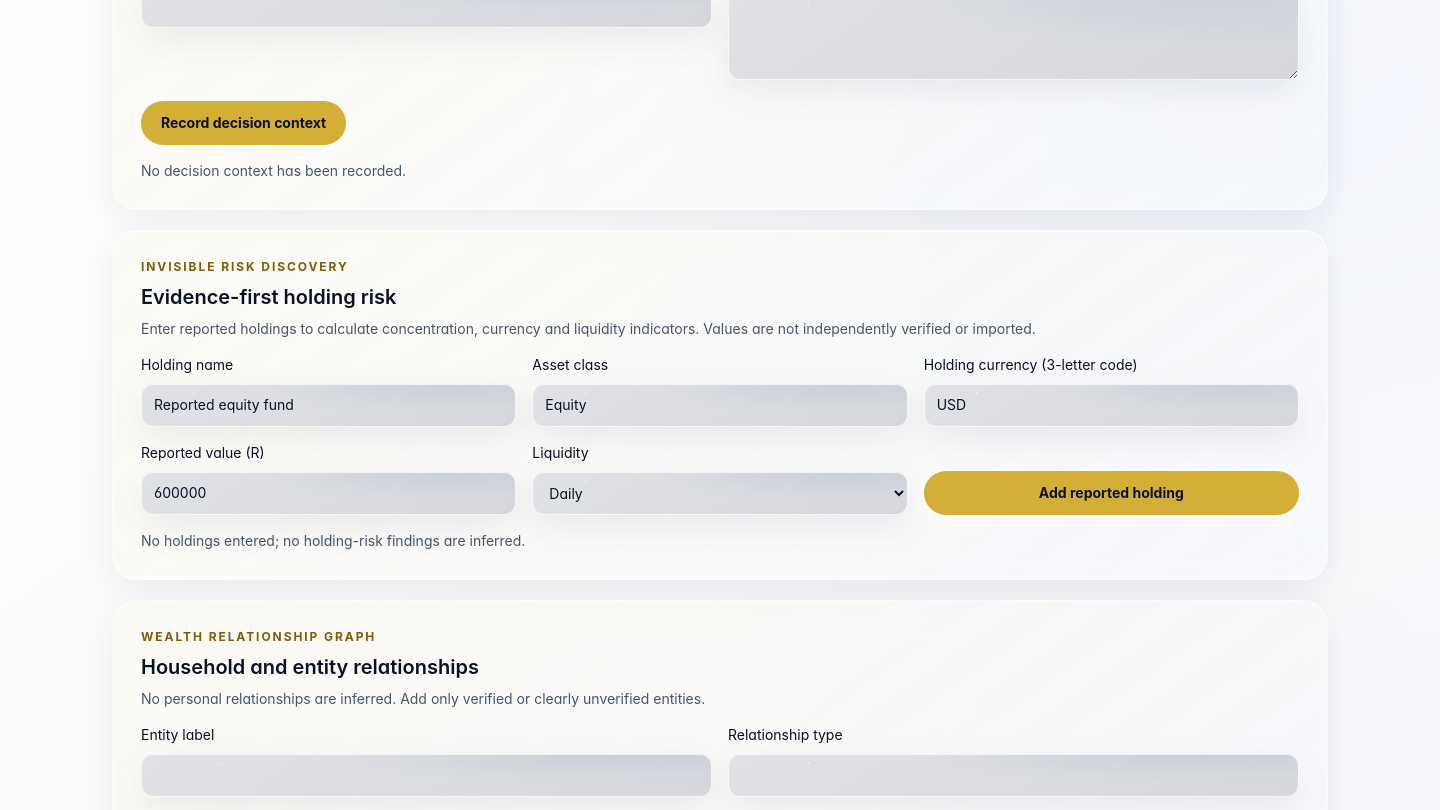
Test: WealthPlanningLab persistence feedback › analyses reported holdings and stores relationship and knowledge records only after user entry
The width and height of the screenshot is (1440, 810).
Earlier steps of the test are not shown.
(page scrolled)
Submit the form named "Add reported holding", box [141,355,1299,515]
(page scrolled)
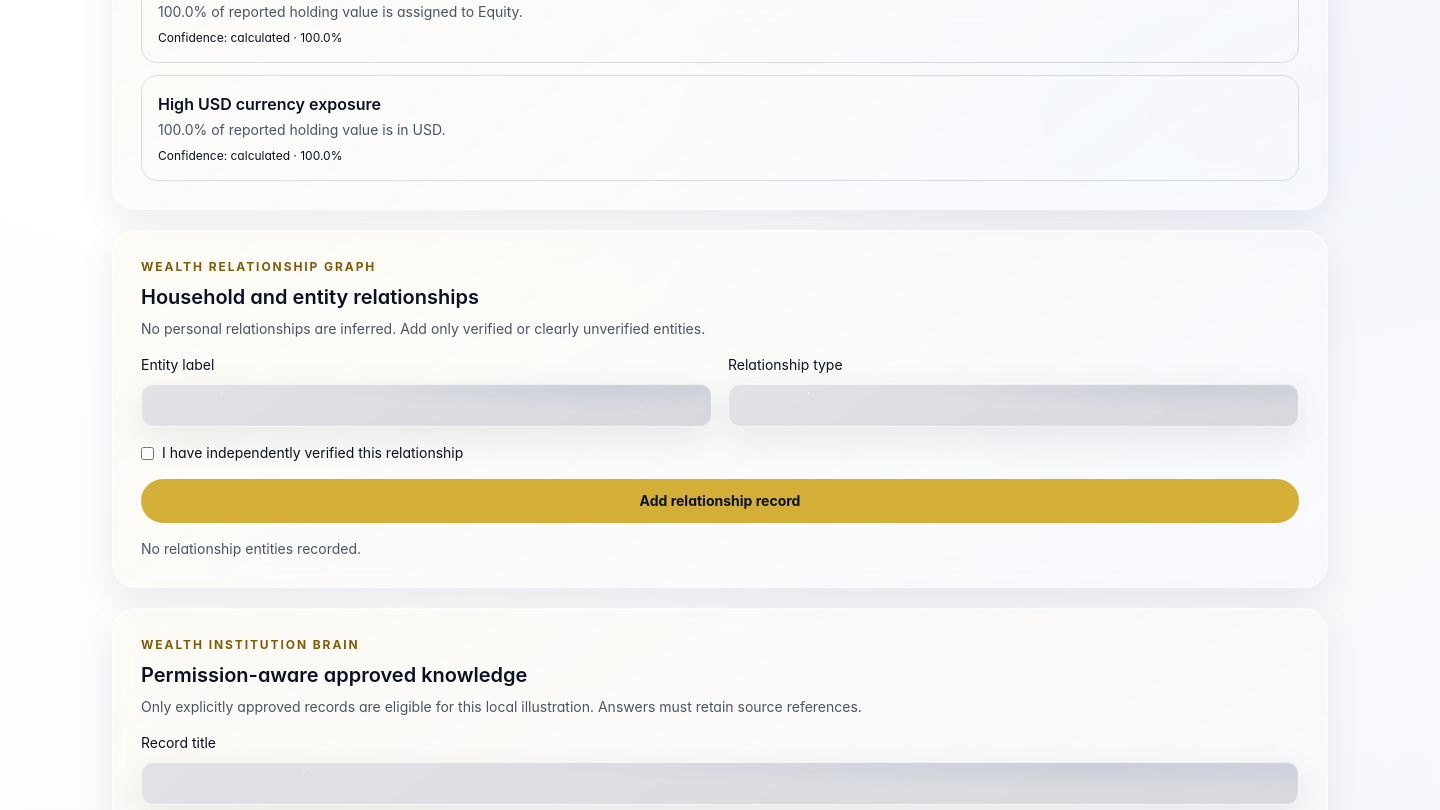
Type "Client beneficiary" into the field labelled "Entity label" at (426, 405), box [141,383,712,427]
Type "Beneficiary" into the field labelled "Relationship type" at (1014, 405), box [728,383,1299,427]
Click the button "Add relationship record" at (720, 501), box [141,479,1299,523]
(page scrolled)
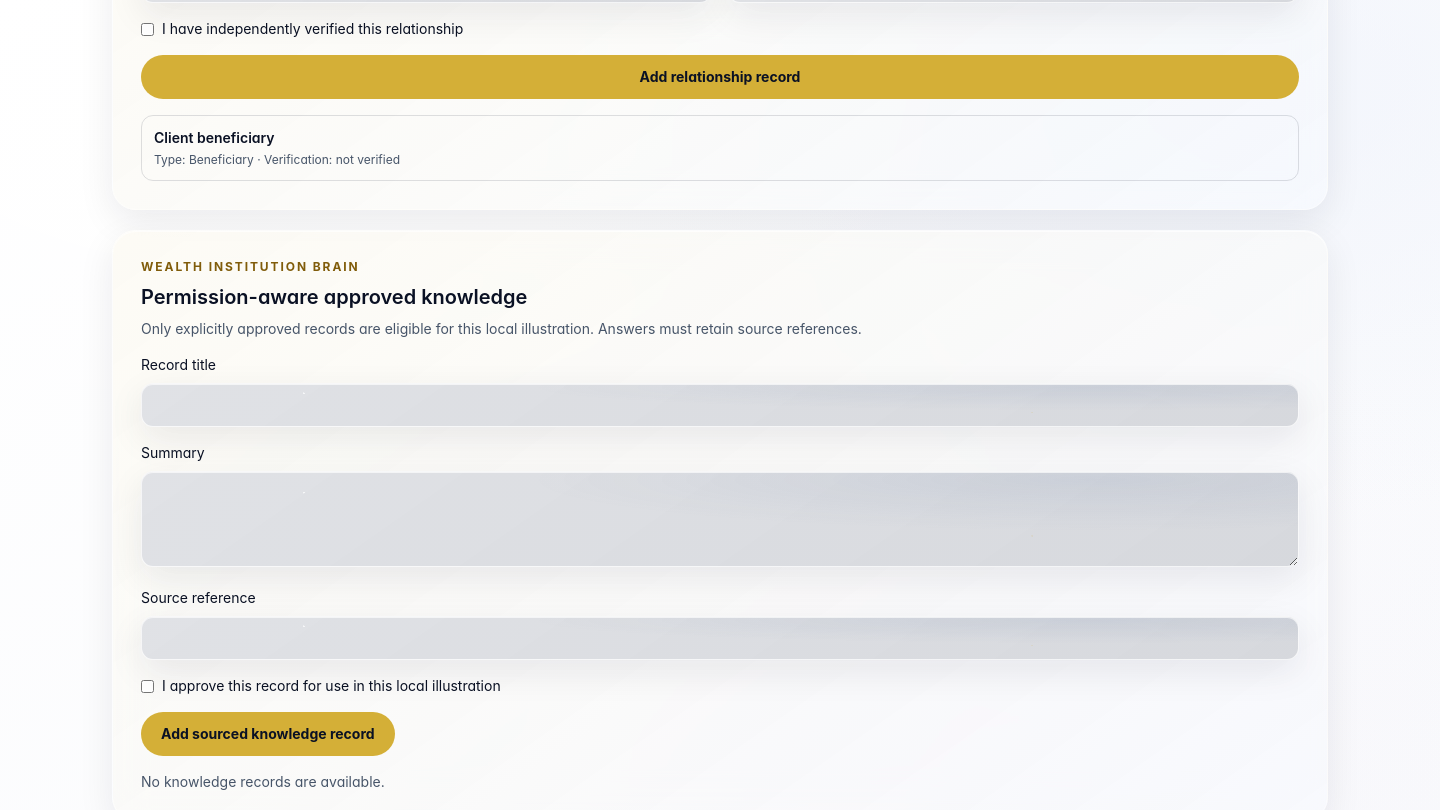
Expected: the text "Client beneficiary" is shown, [154,129,275,146]
Expected: the text "Type: Beneficiary · Verification: not verified" is shown, [154,152,400,167]
Type "Adviser review policy" into the field labelled "Record title" at (720, 405), box [141,383,1299,427]
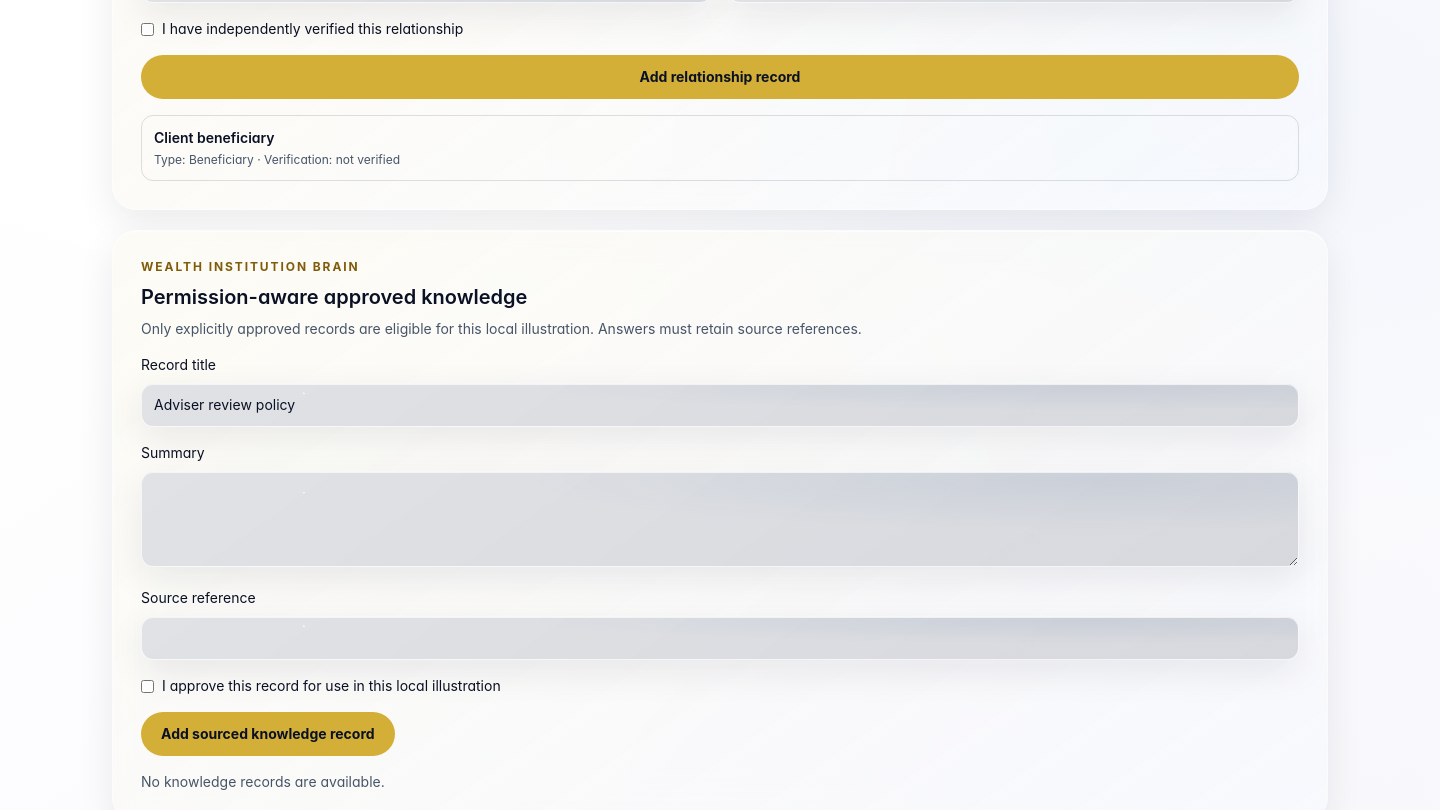
Type "Review before making a recommendation." into the text box labelled "Summary" at (720, 519), box [141,471,1299,567]
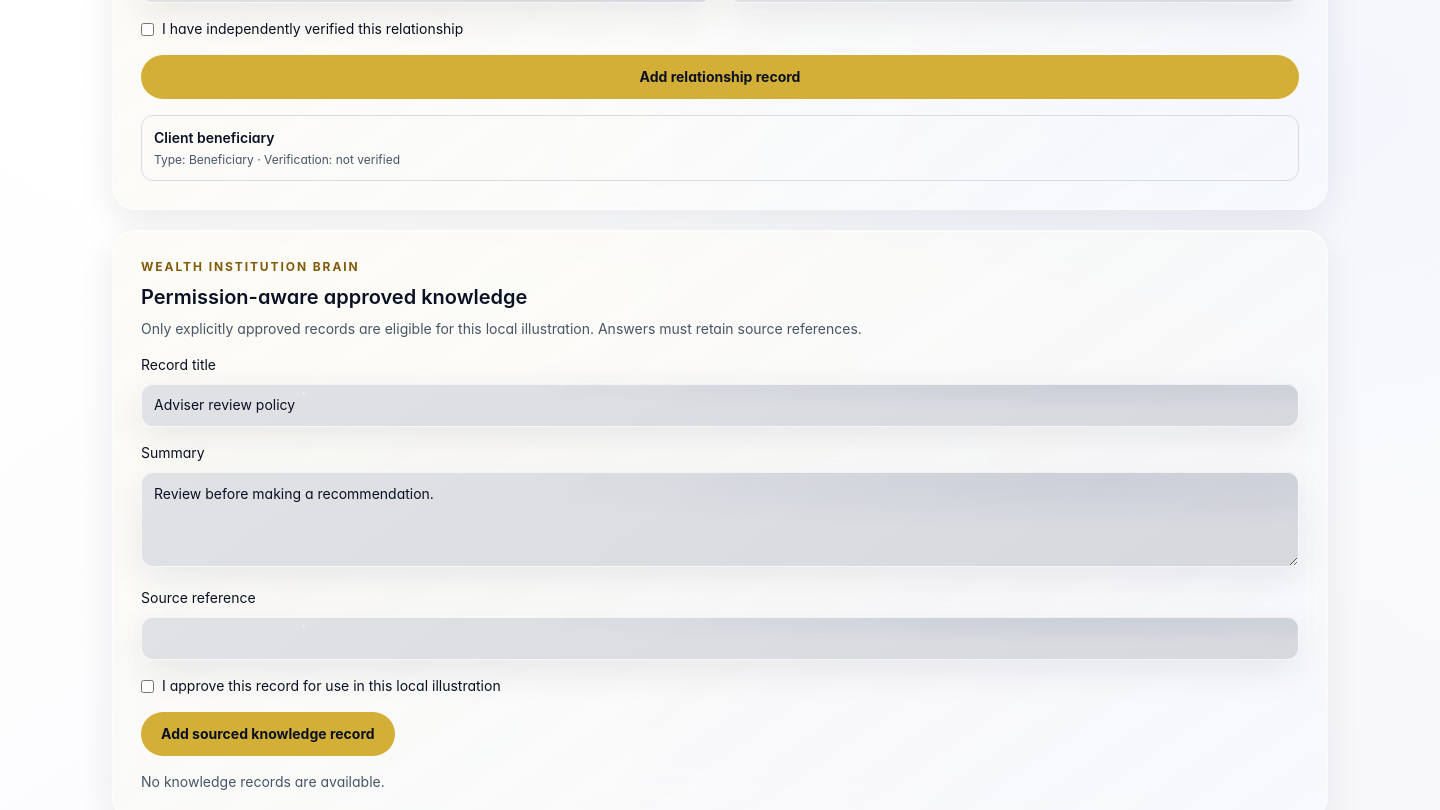
Type "Firm policy 2026-01" into the field labelled "Source reference" at (720, 638), box [141,616,1299,660]
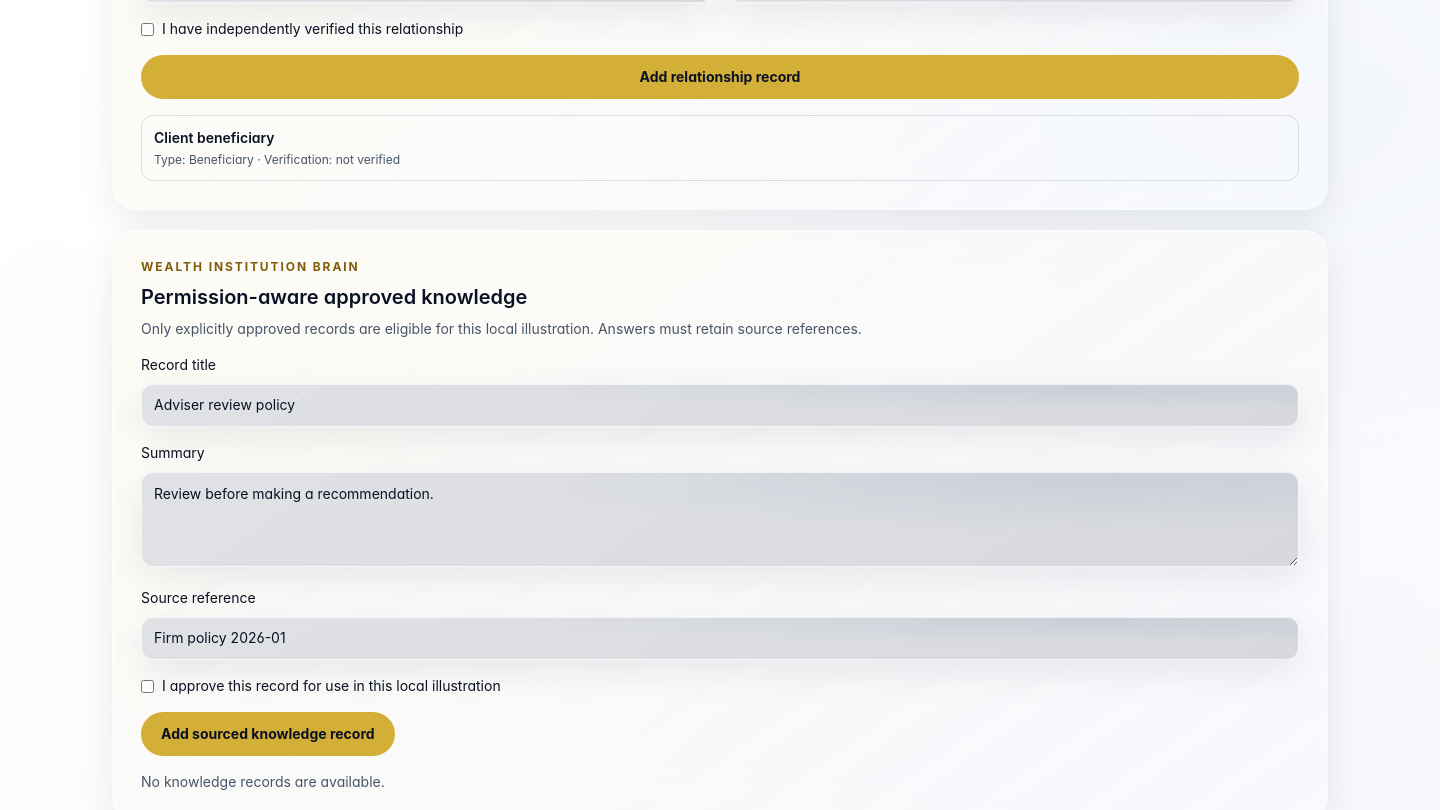
Click the button "Add sourced knowledge record" at (268, 734), box [141,712,395,756]
(page scrolled)
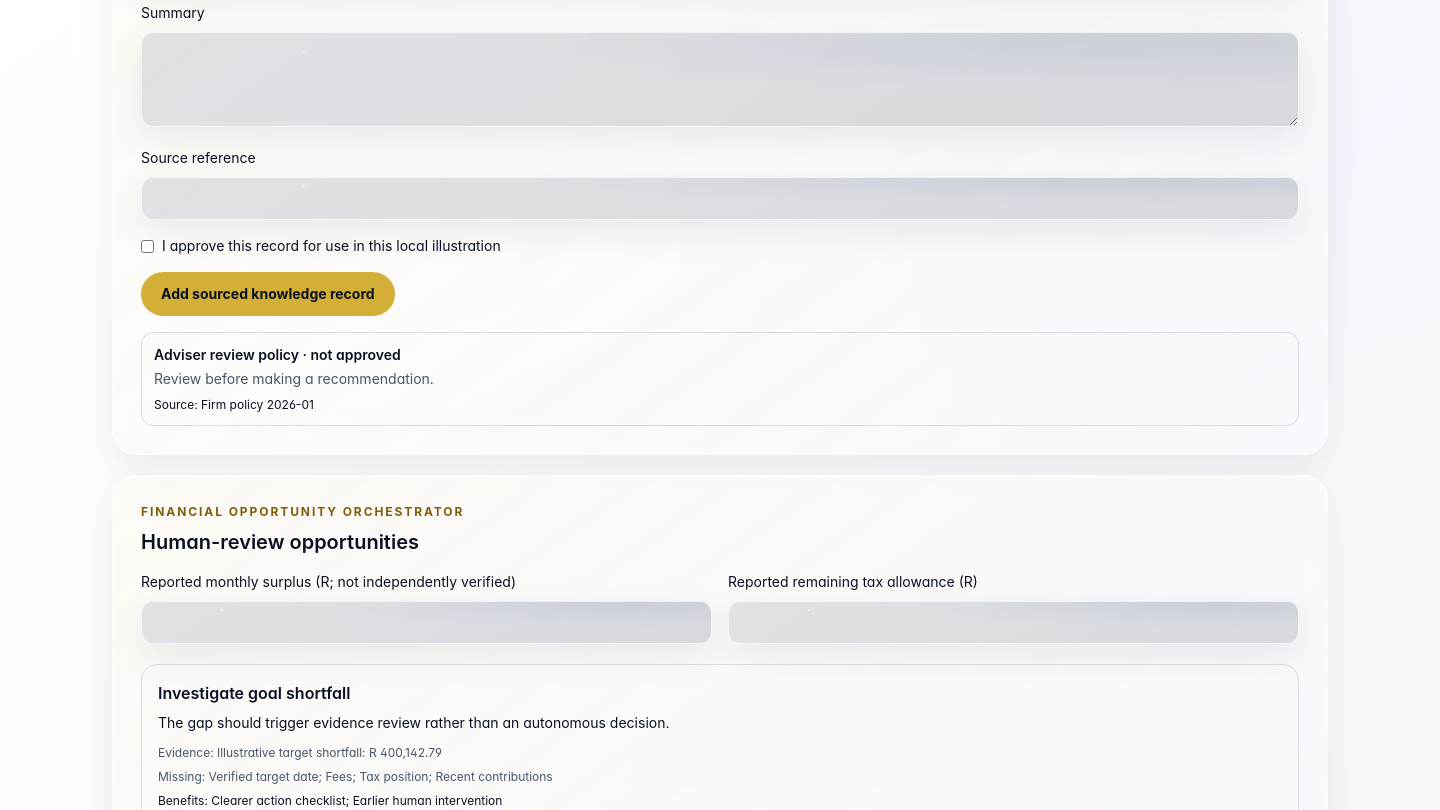
Expected: the text "Adviser review policy · not approved" is shown, [154,346,401,363]
Expected: the text "Source: Firm policy 2026-01" is shown, [154,397,314,412]
